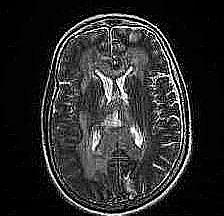Normal_Brain: (1, 1, 223, 216)
